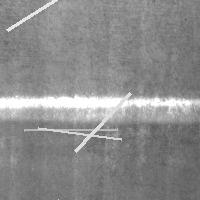scratches: (1, 94, 200, 122), (70, 88, 135, 156), (2, 0, 74, 35), (33, 123, 126, 144), (19, 124, 122, 135), (33, 195, 64, 200)
